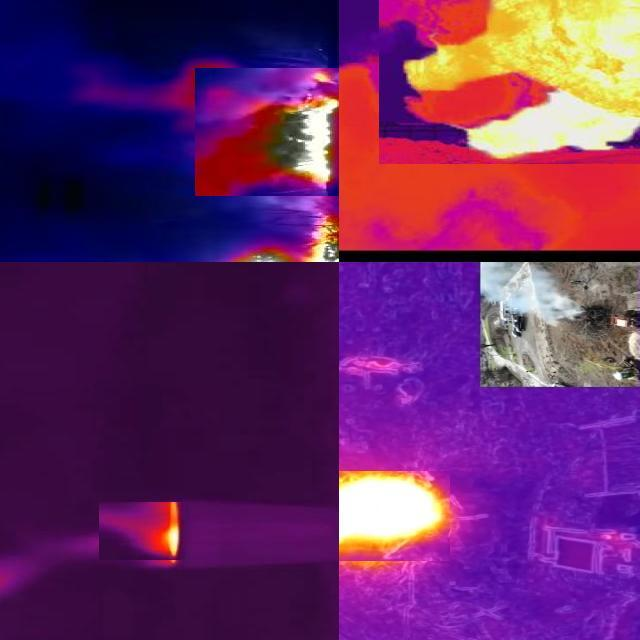fire: (380, 1, 640, 164), (196, 68, 340, 196), (340, 471, 451, 561), (100, 502, 186, 560)
